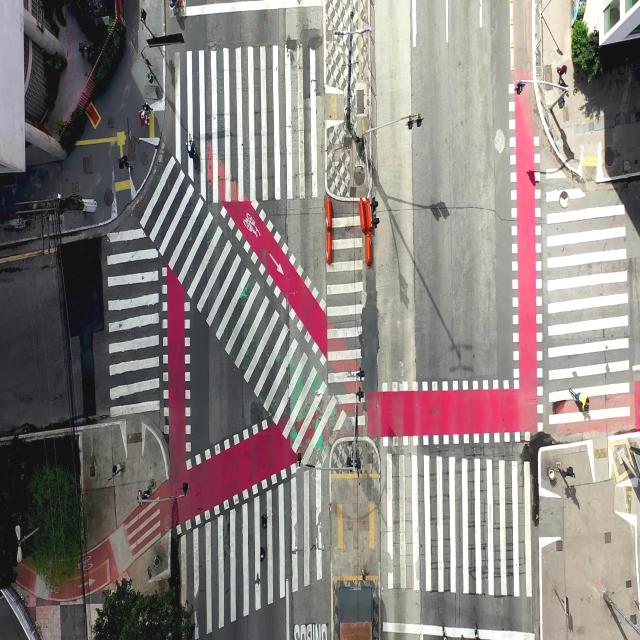Cycle: (186, 127, 202, 167)
